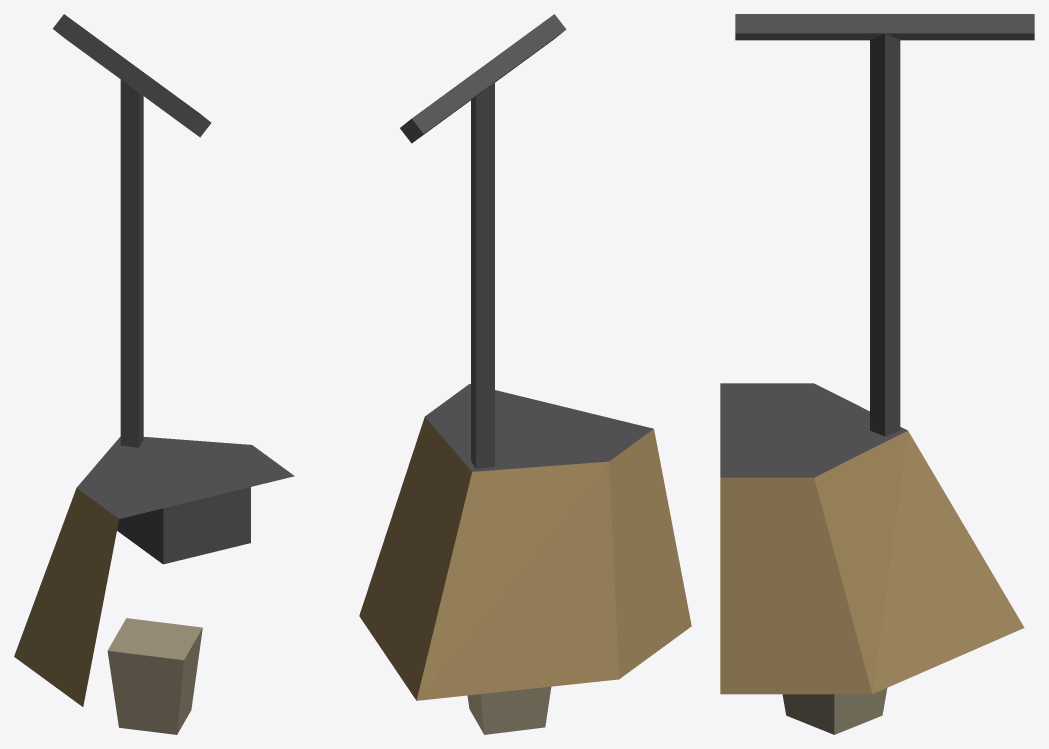
Rendered from stick_lamp.glb.
3 renders of one model, left to right at view 1: azimuth 30°, elevation 25°; view 2: azimuth 150°, elevation 25°; view 3: azimuth 270°, elevation 25°, orthographic. The views are drawn at different scales.
Visible parts, largest first — view 1: stick_lamp; view 2: stick_lamp; view 3: stick_lamp.
Boxes of the visible parts, x1=… form: stick_lamp: x1=14, y1=14, x2=294, y2=734; stick_lamp: x1=359, y1=14, x2=691, y2=734; stick_lamp: x1=720, y1=14, x2=1034, y2=734.
Size of the model in its own units: 0.13 by 0.32 by 0.13.
